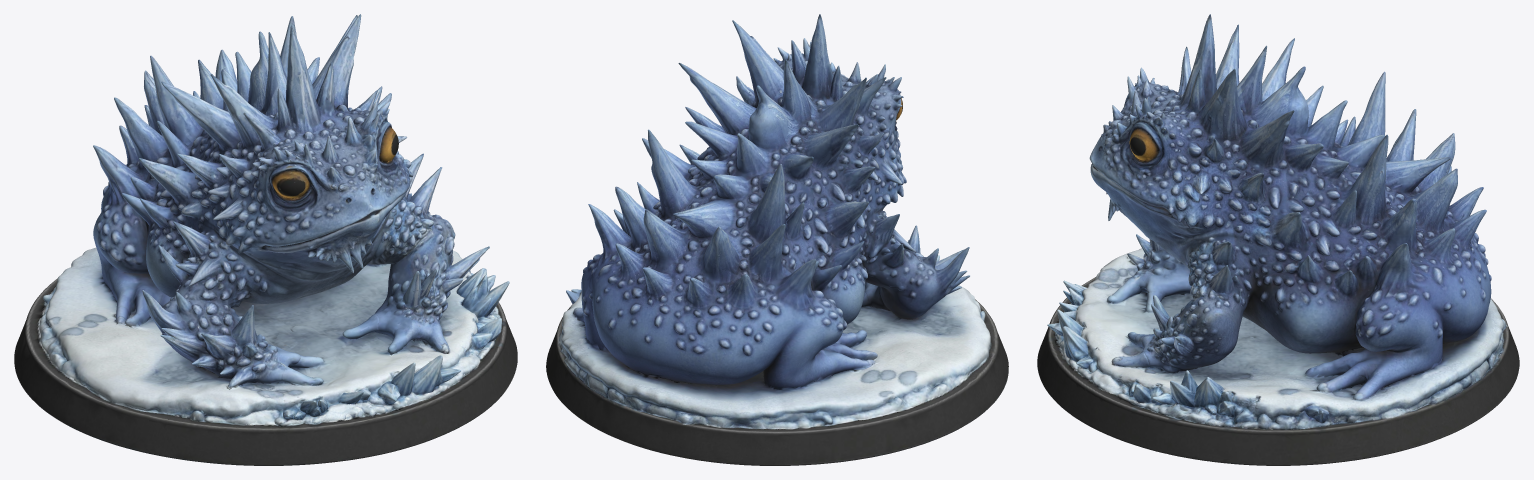
The model's file is ice-toad.glb.
The picture shows the model from 3 angles, left to right: view 1: azimuth 30°, elevation 25°; view 2: azimuth 150°, elevation 25°; view 3: azimuth 270°, elevation 25°; orthographic projection. The views are drawn at different scales.
Parts seen in each view (by area): view 1: tripo_node_8b1c838e-0186-40f6-b461-266be31adbd7; view 2: tripo_node_8b1c838e-0186-40f6-b461-266be31adbd7; view 3: tripo_node_8b1c838e-0186-40f6-b461-266be31adbd7.
Boxes of the visible parts, bbox=[...] form: tripo_node_8b1c838e-0186-40f6-b461-266be31adbd7: bbox=[14, 14, 517, 465]; tripo_node_8b1c838e-0186-40f6-b461-266be31adbd7: bbox=[546, 14, 1008, 465]; tripo_node_8b1c838e-0186-40f6-b461-266be31adbd7: bbox=[1037, 14, 1519, 465].
Bounding box in the file's own units: 0.9796 × 0.7759 × 0.98.
Materials: 1 (1 with a texture image).
